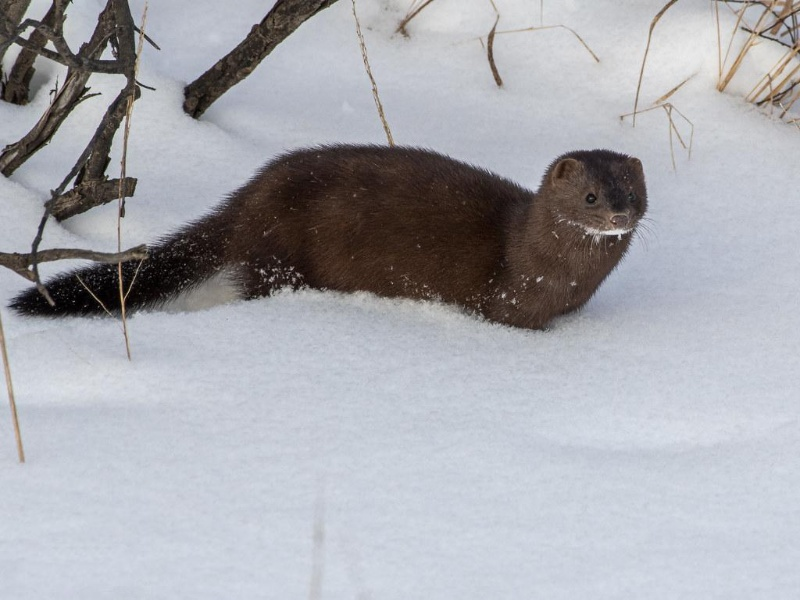minkish: (9, 141, 650, 334)
